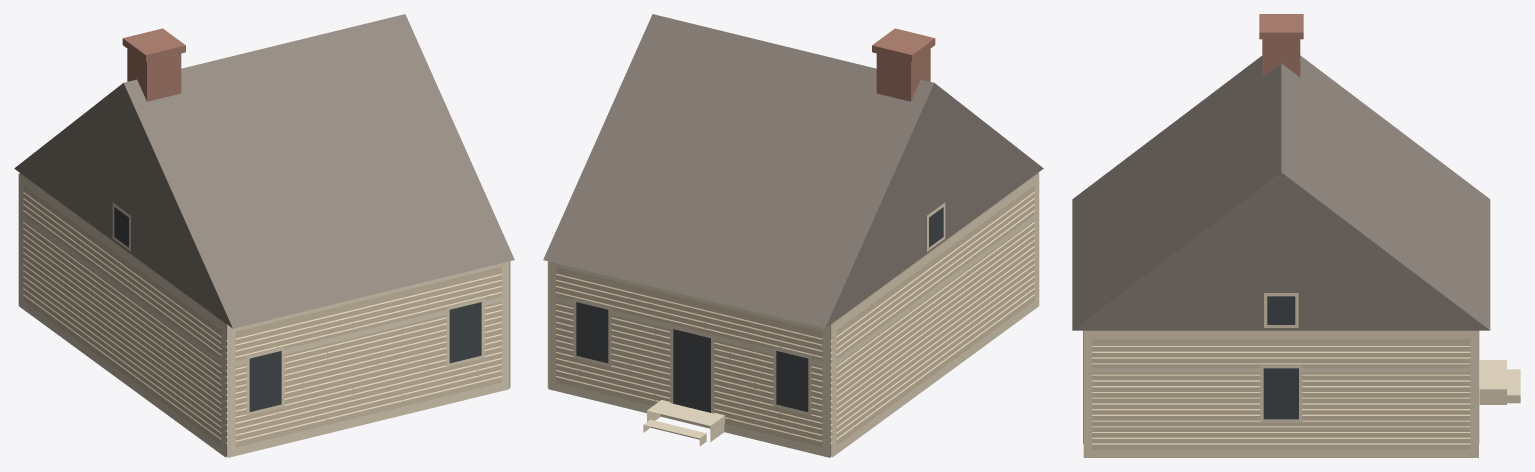
The model's file is recon_1835_blk_randolph_franklin_d6_01__inferred_1835.glb.
3 renders of one model, left to right at view 1: azimuth 30°, elevation 25°; view 2: azimuth 150°, elevation 25°; view 3: azimuth 270°, elevation 25°, orthographic. The views are drawn at different scales.
Parts seen in each view (by area): view 1: recon_1835_blk_randolph_franklin_d6_01__inferred_1835; view 2: recon_1835_blk_randolph_franklin_d6_01__inferred_1835; view 3: recon_1835_blk_randolph_franklin_d6_01__inferred_1835.
Part boxes in pixels (x1,y1,x2,y2): recon_1835_blk_randolph_franklin_d6_01__inferred_1835: (14,14,514,457); recon_1835_blk_randolph_franklin_d6_01__inferred_1835: (543,14,1043,457); recon_1835_blk_randolph_franklin_d6_01__inferred_1835: (1072,14,1520,457).
Bounding box in the file's own units: 6.97 × 7.74 × 9.92.
